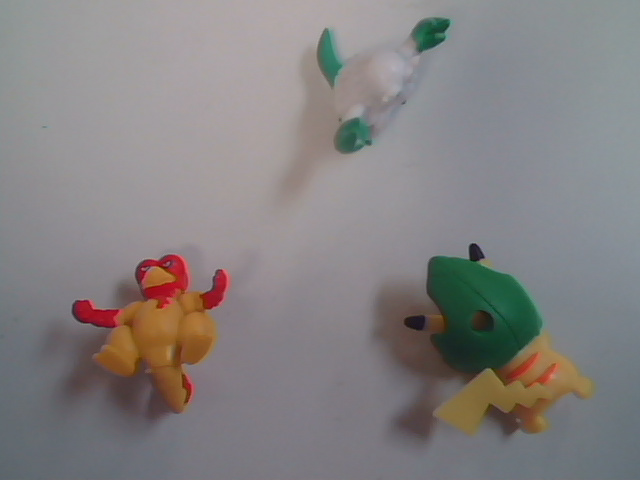abomasnow: (274, 4, 470, 209)
magmar: (53, 235, 282, 439)
pikachu: (391, 241, 620, 471)
